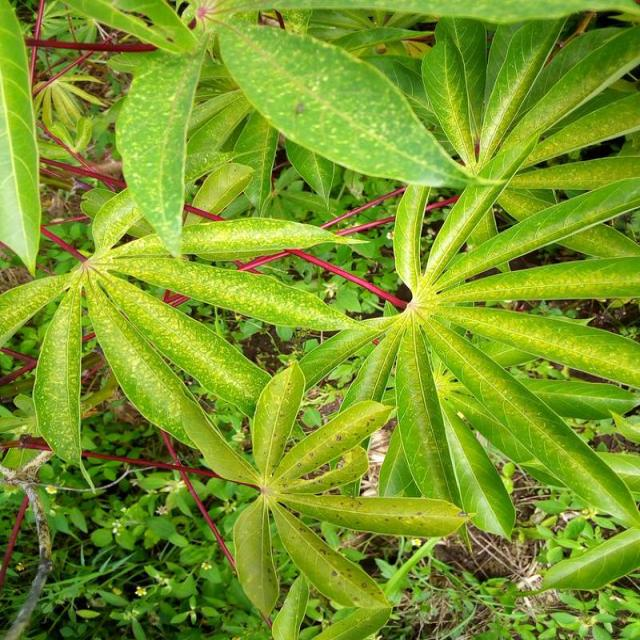Mosaico: (327, 138, 640, 498), (44, 180, 320, 425), (196, 354, 452, 589)
